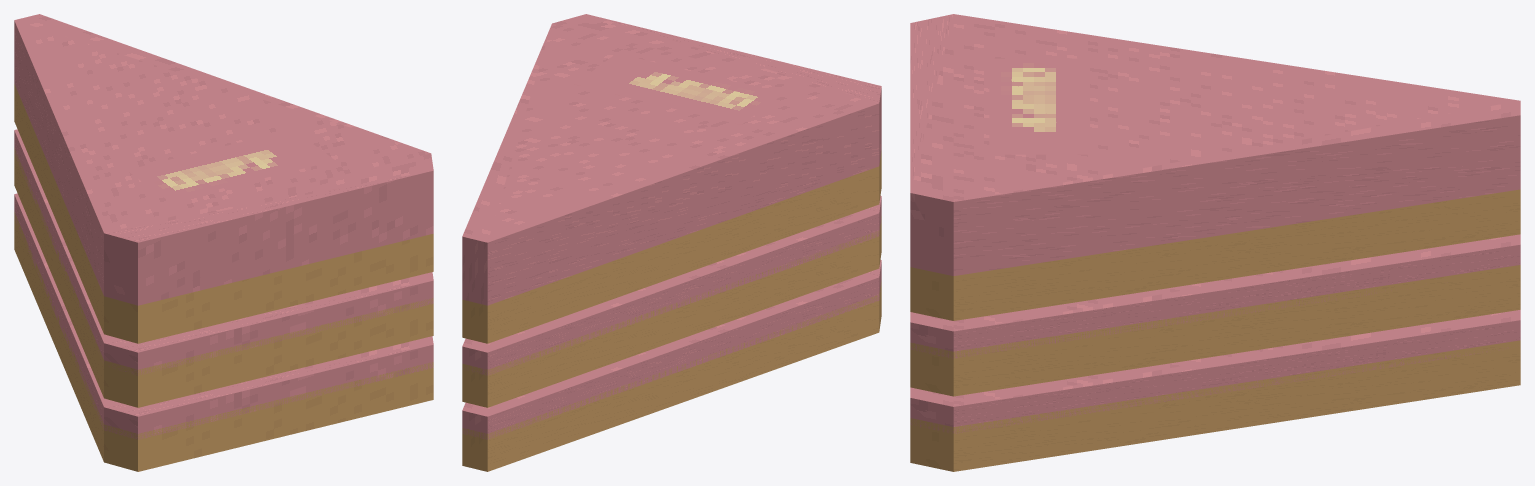
Rendered from cake3.glb.
3 renders of one model, left to right at view 1: azimuth 30°, elevation 25°; view 2: azimuth 150°, elevation 25°; view 3: azimuth 270°, elevation 25°, orthographic. The views are drawn at different scales.
Parts seen in each view (by area): view 1: block_iced top, block_sponge layer (×3), block_frosting layer (×2), block_icing lettering; view 2: block_iced top, block_sponge layer (×3), block_frosting layer (×2), block_icing lettering; view 3: block_iced top, block_sponge layer (×3), block_frosting layer (×2), block_icing lettering.
Boxes of the visible parts, <box> form: block_iced top: <box>14,14,433,305</box>; block_sponge layer (×3): <box>14,84,433,471</box>; block_frosting layer (×2): <box>14,129,433,439</box>; block_icing lettering: <box>126,129,335,201</box>; block_iced top: <box>462,14,881,305</box>; block_sponge layer (×3): <box>462,151,881,471</box>; block_frosting layer (×2): <box>462,196,881,439</box>; block_icing lettering: <box>575,53,783,124</box>; block_iced top: <box>910,14,1520,275</box>; block_sponge layer (×3): <box>910,189,1520,471</box>; block_frosting layer (×2): <box>910,234,1520,433</box>; block_icing lettering: <box>989,58,1089,154</box>.
Bounding box in the file's own units: 0.0754 × 0.0507 × 0.1033.
1 material, 1 textured.
